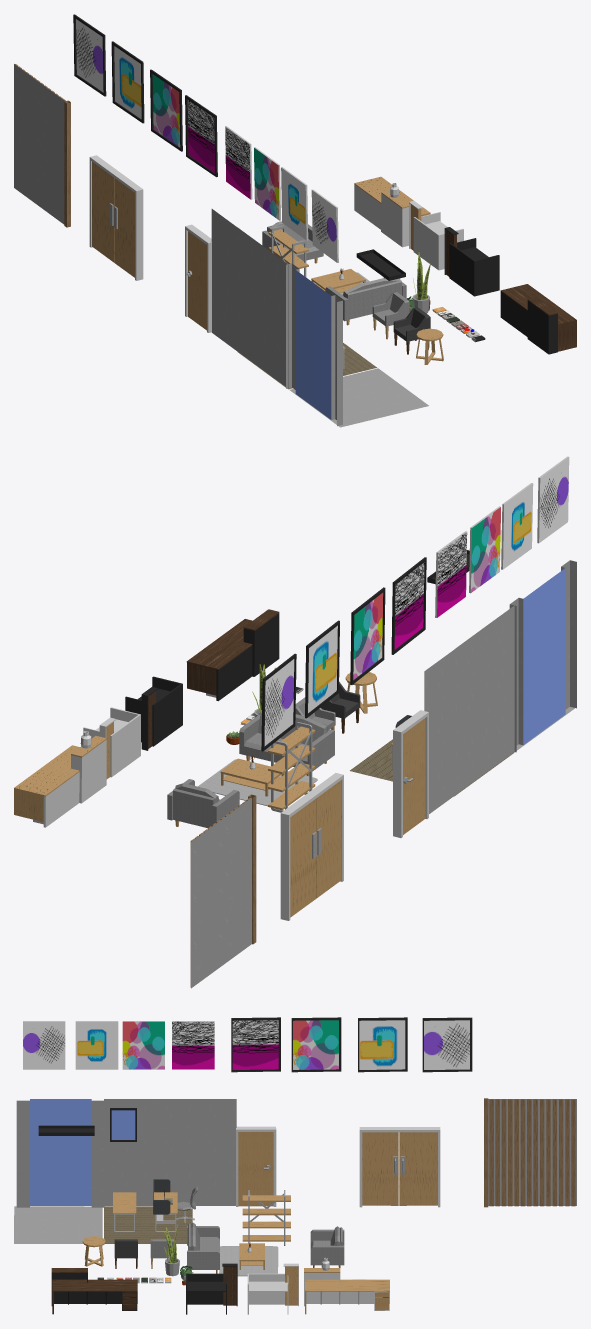
File: ModernOffice.fbx
The picture shows the model from 3 angles, top to bottom: view 1: azimuth 30°, elevation 25°; view 2: azimuth 150°, elevation 25°; view 3: azimuth 270°, elevation 25°; orthographic projection. The views are drawn at different scales.
Parts seen in each view (by area): view 1: wall small .001, wood wall, wall small .003, lobby desk A Dark, big tile light wood .001, wall small .004, lobby desk A Light, lobby desk B Dark, art framed .004, art framed .007, art framed .005, art framed .006 (+20 smaller); view 2: wall small .001, wood wall, wall small .003, lobby desk A Dark, lobby desk A Light, wall small .004, shelf, lobby desk B Dark, big Wood doors light R, big Wood doors light L, art framed .007, art framed .004 (+17 smaller); view 3: wood wall, wall small .001, wall small .003, wall small .004, big tile light wood .001, big Wood doors light R, art framed .005, art framed .007, big Wood doors light L, art framed .004, art framed .006, lobby desk A Dark (+25 smaller).
Boxes of the visible parts, x1,y1,x2,y2 form: wall small .001: (286,263,342,426); wood wall: (14,64,65,224); wall small .003: (237,227,288,388); lobby desk A Dark: (500,284,576,354); big tile light wood .001: (289,368,428,427); wall small .004: (211,209,236,350); lobby desk A Light: (354,176,430,247); lobby desk B Dark: (444,227,499,296); art framed .004: (185,95,217,177); art framed .007: (73,14,106,96); art framed .005: (150,69,182,151); art framed .006: (111,41,144,123); wall small .001: (509,560,576,752); wood wall: (190,798,251,988); wall small .003: (454,605,514,795); lobby desk A Dark: (186,609,279,701); lobby desk A Light: (14,736,106,827); wall small .004: (424,649,454,813); shelf: (268,722,315,812); lobby desk B Dark: (125,676,182,750); big Wood doors light R: (290,799,316,917); big Wood doors light L: (316,780,341,898); art framed .007: (261,653,296,751); art framed .004: (391,557,426,654); wood wall: (488,1099,576,1206); wall small .001: (16,1099,104,1207); wall small .003: (104,1099,192,1205); wall small .004: (192,1099,236,1205); big tile light wood .001: (14,1206,102,1243); big Wood doors light R: (399,1132,437,1205); art framed .005: (291,1017,341,1072); art framed .007: (422,1017,472,1072); big Wood doors light L: (362,1132,398,1205); art framed .004: (231,1017,280,1072); art framed .006: (358,1017,407,1072); lobby desk A Dark: (51,1268,137,1314).
Bounding box in the file's own units: 894 × 708 × 1907.
